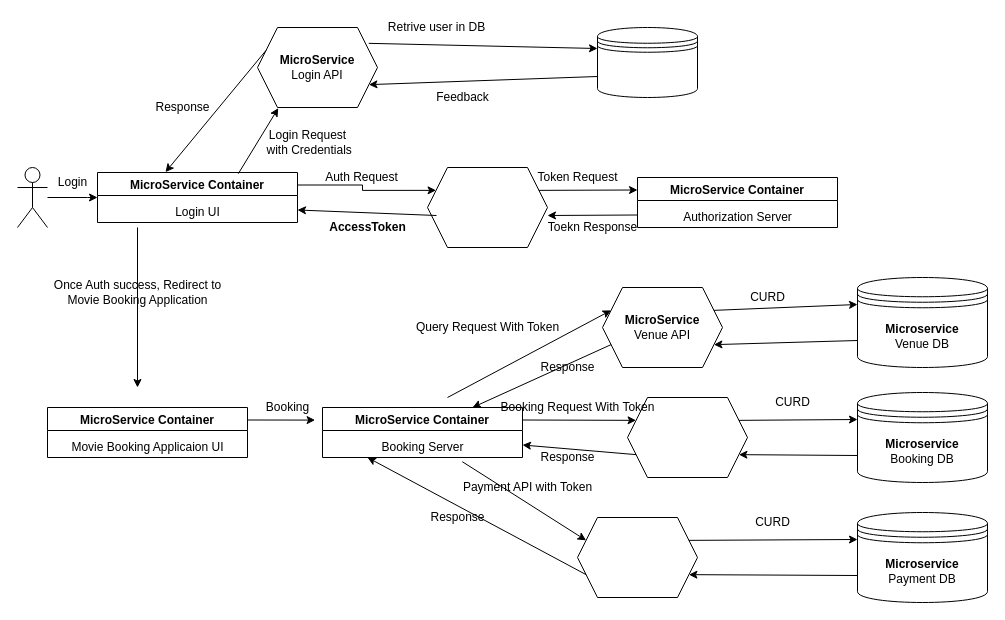
Image size: 1005x620. Some labels were removed from this diagram. The shapes that lost their labels are listed below. From the top down, each one's centre as x and y in pixels, then its label:
At point (647, 62): "MicroService User DB".
At point (32, 197): "User".
At point (487, 207): "Microservice Auth API".
At point (687, 437): "MicroService Booking API".
At point (637, 557): "MicroService Payment API".
